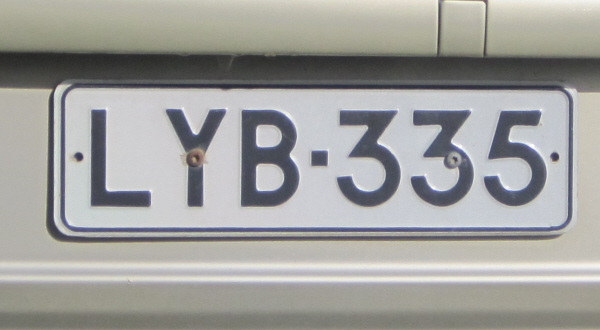license_plate: (51, 79, 577, 238)
